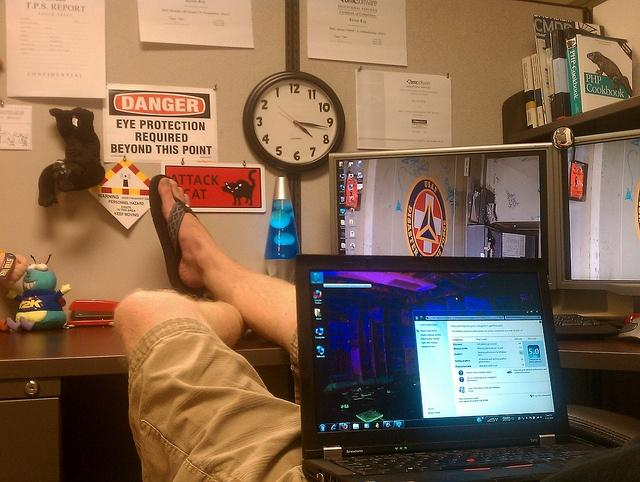AIO PC-Monitor-TV: (327, 142, 557, 291), (553, 125, 639, 295)
